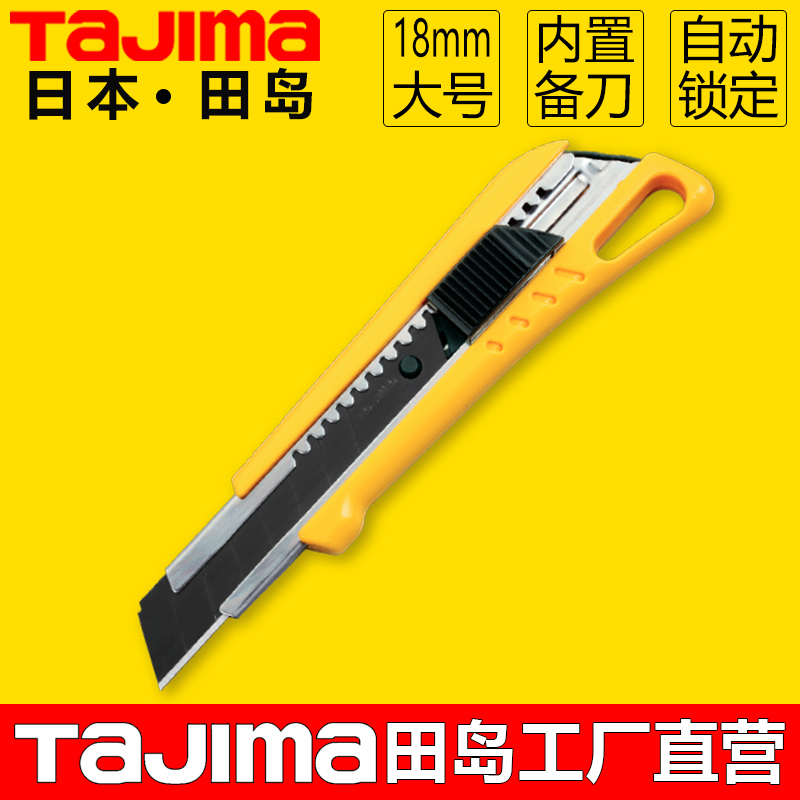cutter: (136, 138, 729, 691)
